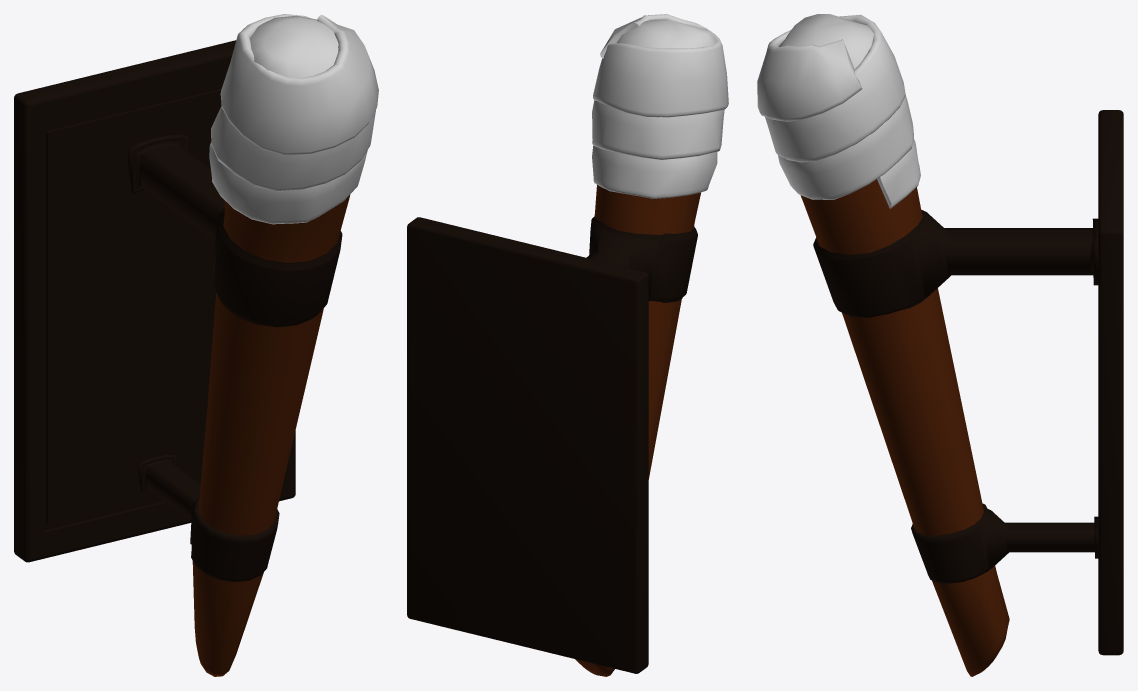
The model's file is TorchRevision.fbx.
3 renders of one model, left to right at view 1: azimuth 30°, elevation 25°; view 2: azimuth 150°, elevation 25°; view 3: azimuth 270°, elevation 25°, orthographic. The views are drawn at different scales.
Parts seen in each view (by area): view 1: Torch Wall holder, Torch Main Body; view 2: Torch Wall holder, Torch Main Body; view 3: Torch Main Body, Torch Wall holder.
Part boxes in pixels (bbox=[...]): Torch Wall holder: bbox=[14, 40, 342, 582]; Torch Main Body: bbox=[192, 14, 378, 676]; Torch Wall holder: bbox=[407, 216, 697, 673]; Torch Main Body: bbox=[575, 14, 728, 676]; Torch Main Body: bbox=[757, 14, 1009, 676]; Torch Wall holder: bbox=[813, 110, 1123, 655].
Size of the model in its own units: 40 by 99.22 by 50.7.
